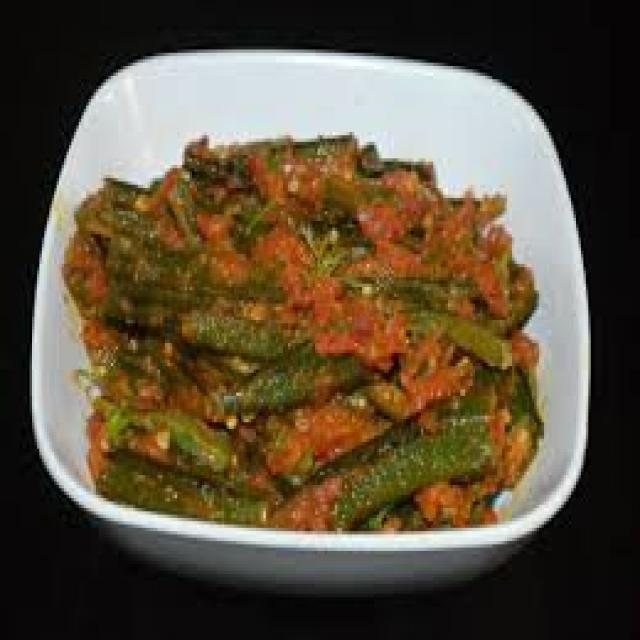Bhindi Masala: (62, 131, 546, 532)
